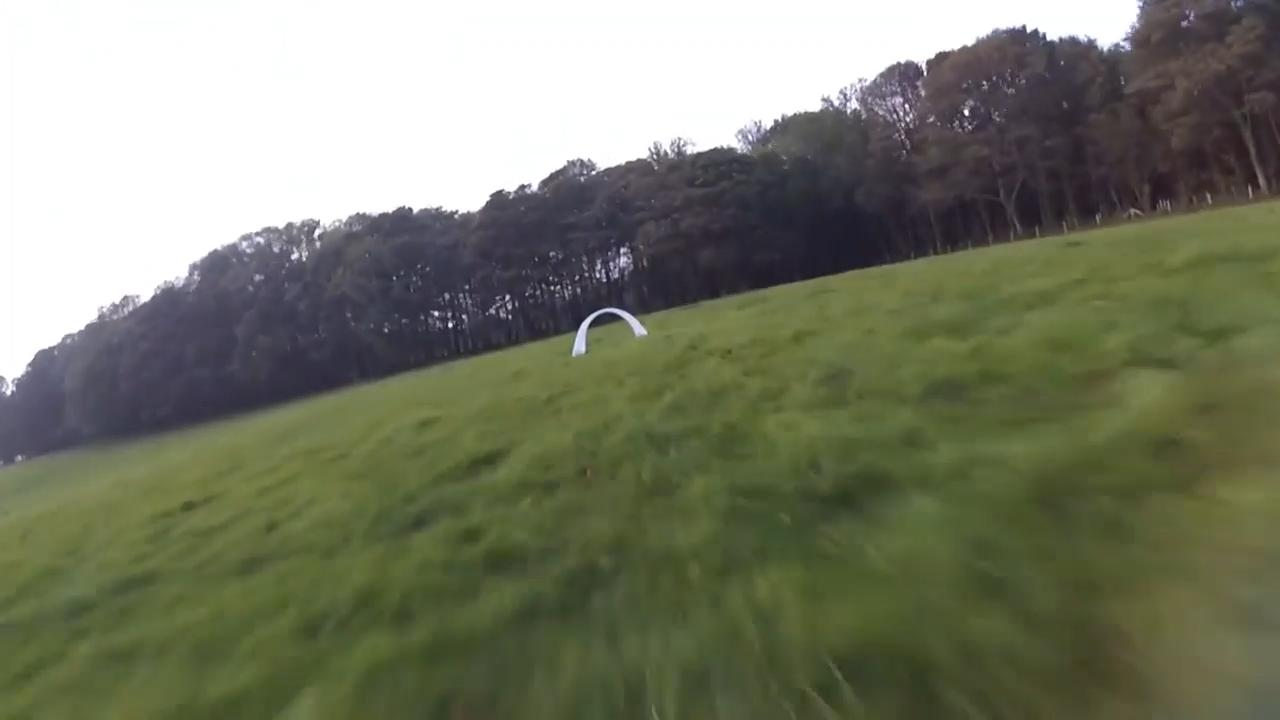gate: (573, 306, 648, 355)
